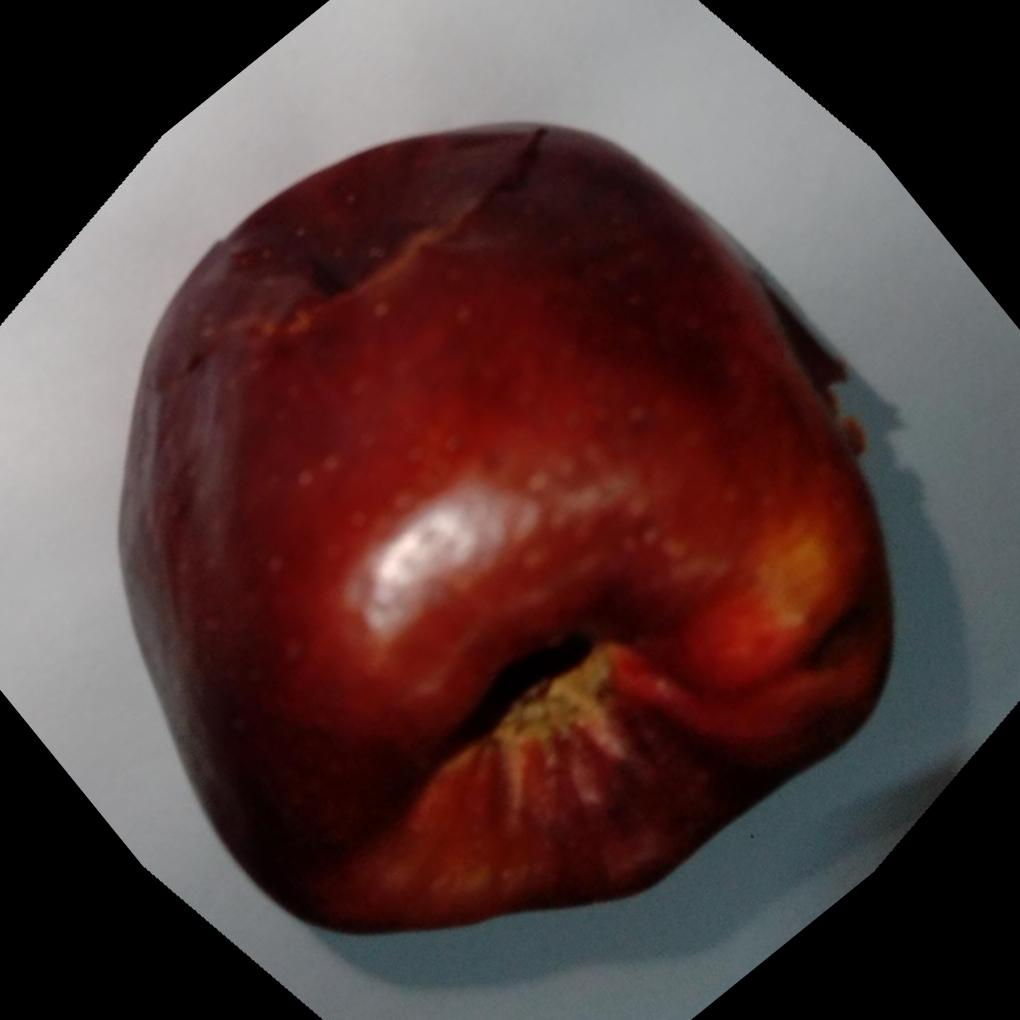FreshOrange: (116, 121, 894, 939)
